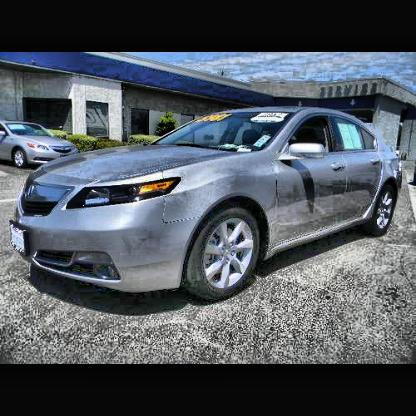Acura TL Sedan 2012: (13, 109, 402, 304)
